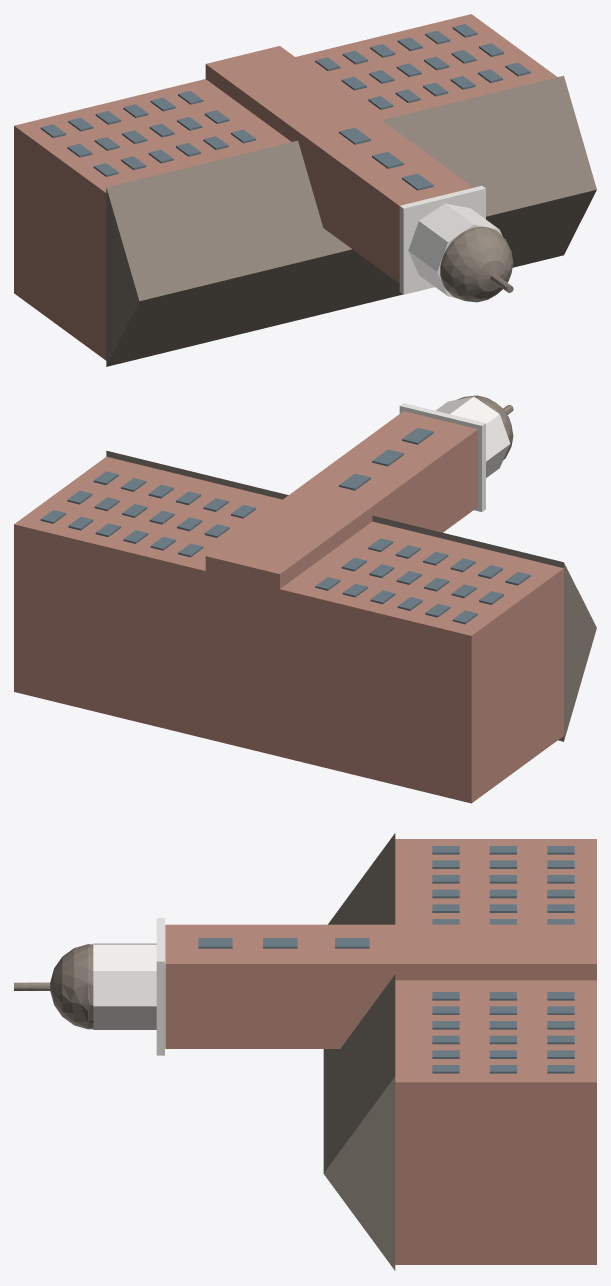
The model's file is r-142-dunster-house-tower.glb.
The picture shows the model from 3 angles, top to bottom: view 1: azimuth 30°, elevation 25°; view 2: azimuth 150°, elevation 25°; view 3: azimuth 270°, elevation 25°; orthographic projection. The views are drawn at different scales.
Visible parts, largest first — view 1: roof, brick-walls, windows, cupola-belfry; view 2: brick-walls, windows, roof, cupola-belfry; view 3: brick-walls, roof, windows, cupola-belfry.
Part boxes in pixels (x1,y1,x2,y2): roof: (106,76,596,366); brick-walls: (14,14,557,360); windows: (40,24,530,190); cupola-belfry: (399,185,502,297); brick-walls: (14,411,563,803); windows: (40,427,530,624); roof: (106,395,596,741); cupola-belfry: (399,396,510,511); brick-walls: (165,839,596,1264); roof: (14,833,395,1270); windows: (198,846,574,1073); cupola-belfry: (93,918,164,1055).
Bounding box in the file's own units: 40000 × 16101 × 40500.
